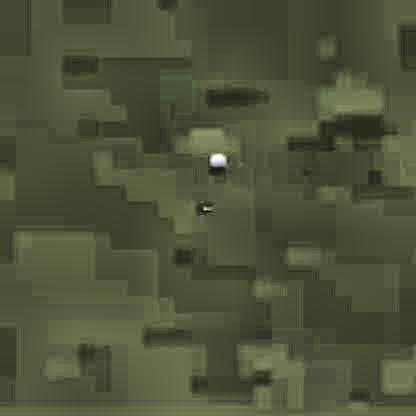golfball: (206, 150, 223, 167)
